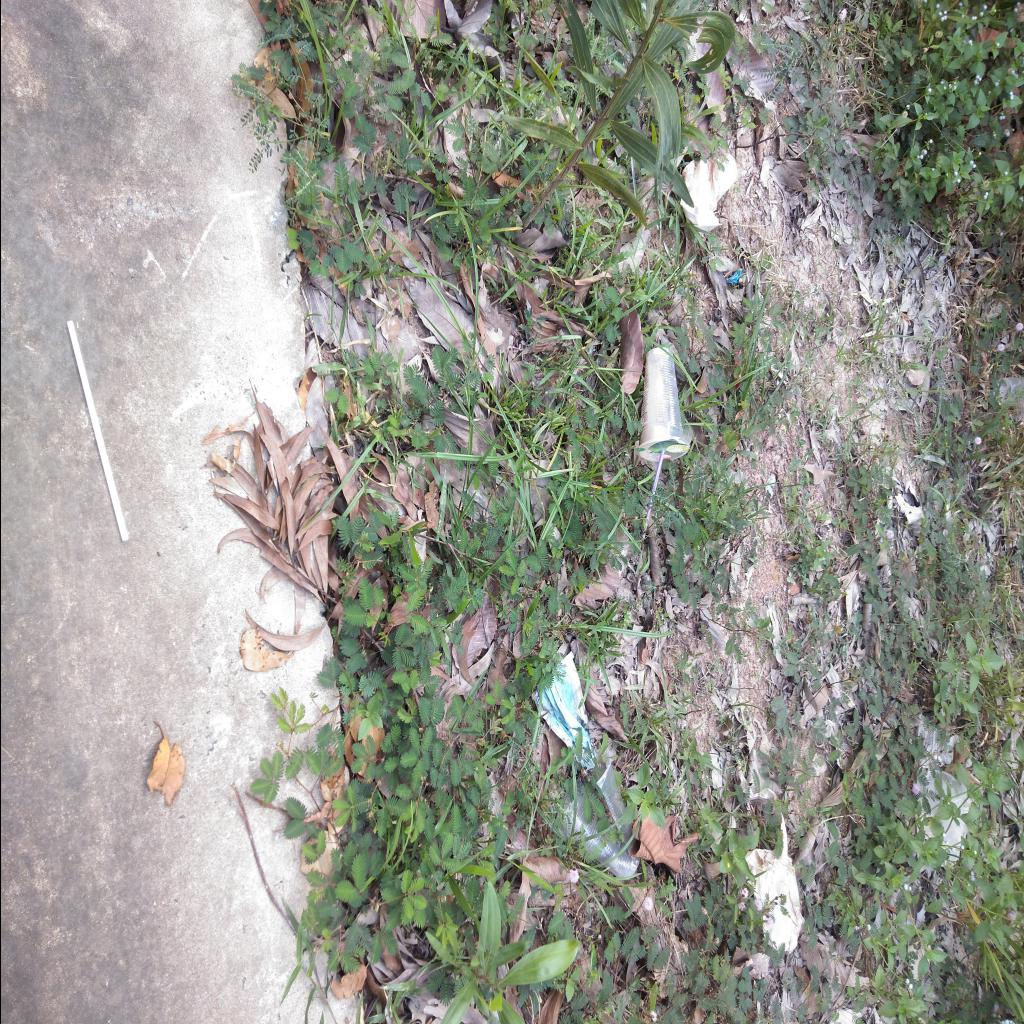Disposable plastic cup: (558, 758, 638, 878), (636, 346, 688, 461), (919, 770, 968, 866)
Other plastic: (726, 270, 740, 284)
Plastic straw: (66, 320, 128, 542), (639, 449, 665, 543)
Unlabeled litter: (744, 810, 804, 954), (530, 651, 594, 771), (679, 154, 737, 232)
